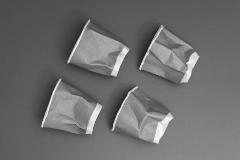paper: (138, 24, 200, 84), (66, 19, 130, 77), (111, 86, 173, 144), (40, 78, 102, 134)
